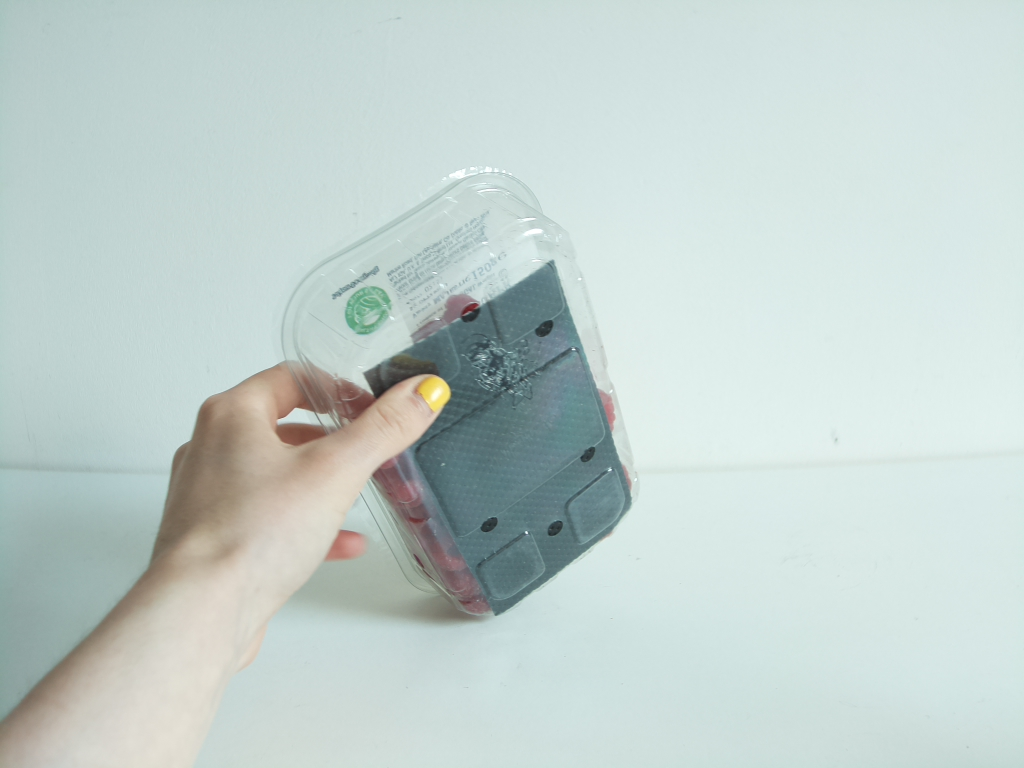soft-fruit: (294, 177, 640, 619)
